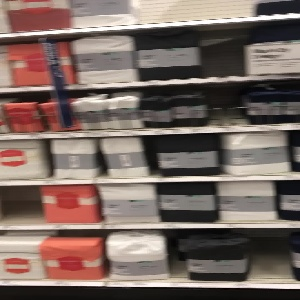void: (138, 1, 258, 27), (249, 231, 294, 284), (205, 25, 247, 79), (208, 83, 249, 130), (1, 185, 42, 230)
